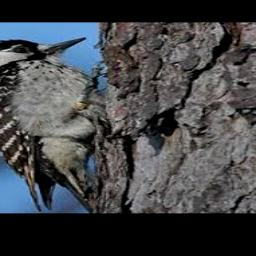Woodpecker: (0, 37, 142, 213)
